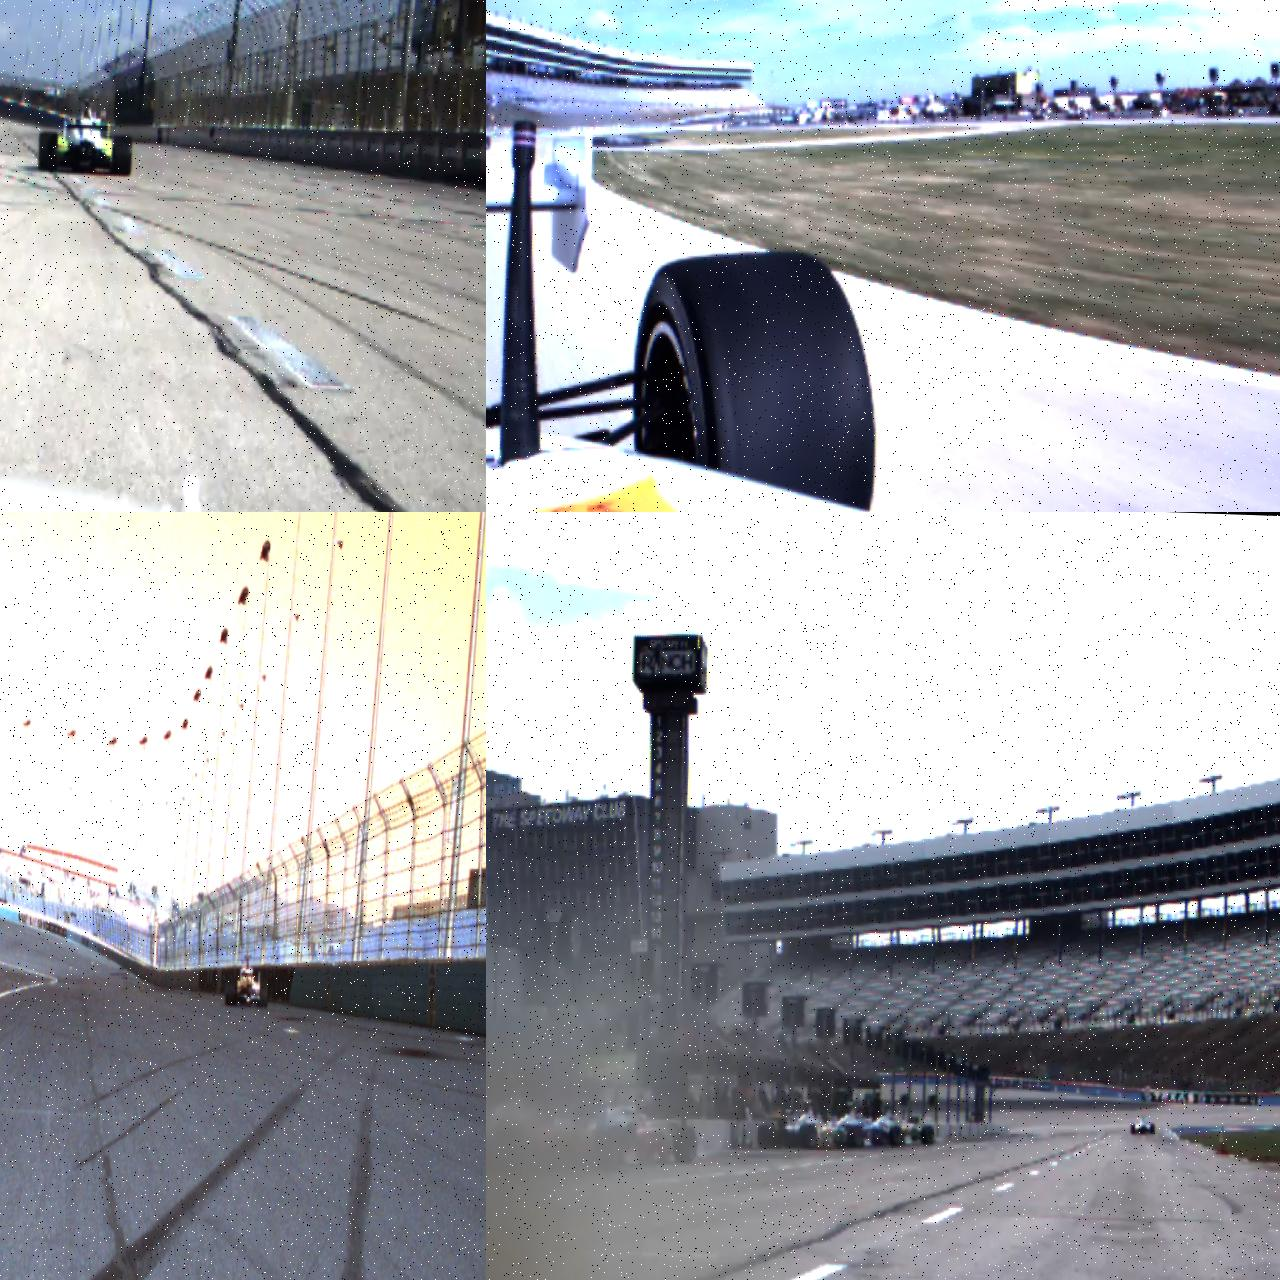AV: (38, 95, 134, 175), (224, 955, 269, 1007), (1130, 1114, 1156, 1134)
Wheel: (630, 243, 882, 510), (672, 1126, 697, 1163), (111, 134, 131, 174), (38, 132, 58, 172), (798, 1123, 817, 1149), (757, 1122, 775, 1148), (846, 1126, 864, 1148), (920, 1125, 934, 1145), (889, 1126, 903, 1146), (259, 978, 268, 1006), (228, 979, 237, 1006), (224, 981, 230, 1005), (1150, 1123, 1154, 1134), (1130, 1124, 1134, 1132)
